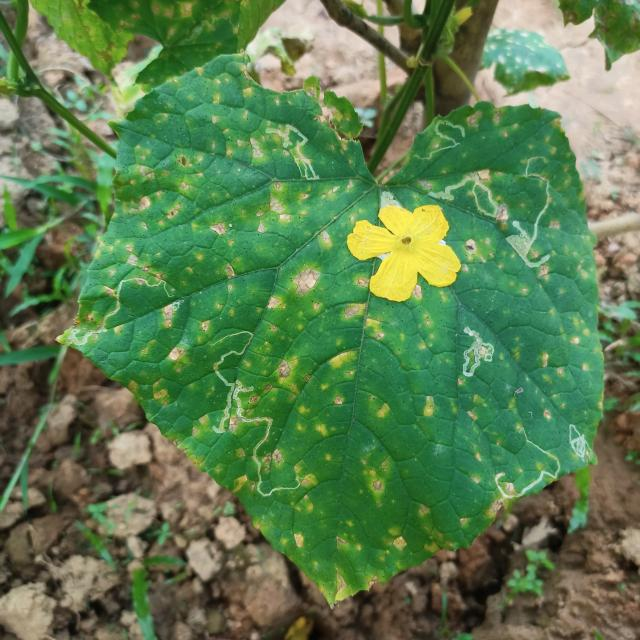disease_cucumber: (106, 83, 580, 574)
